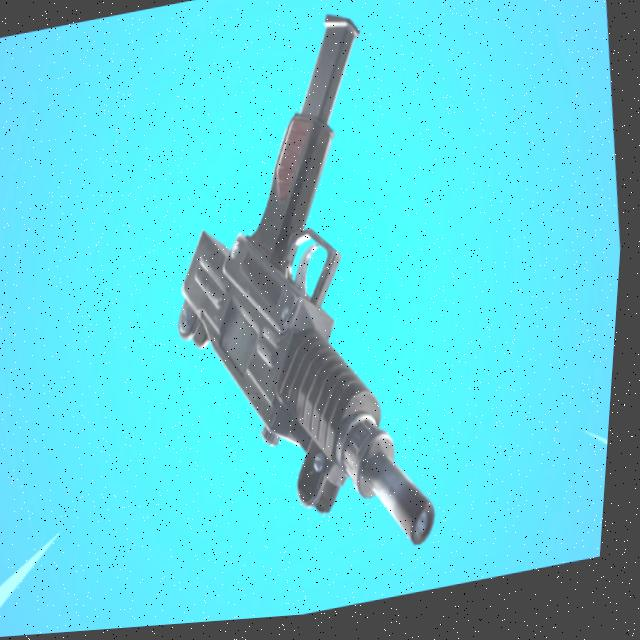firearm: (130, 0, 476, 599)
